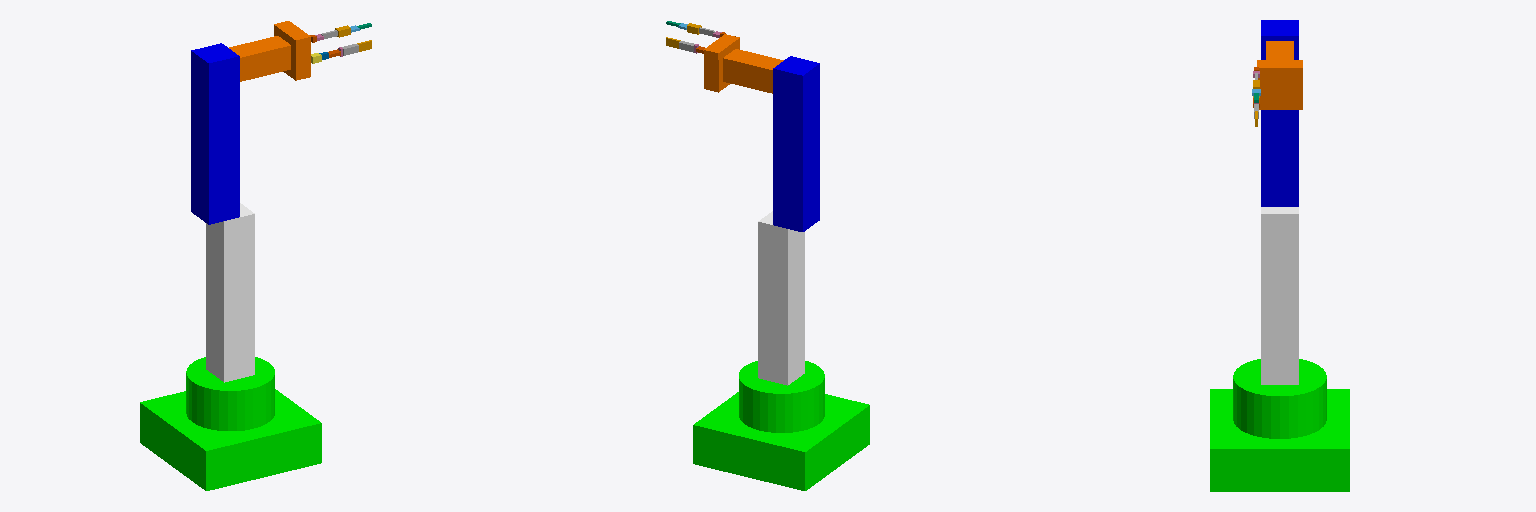
The robot description file, URDF, robot "robot":
<?xml version='1.0' encoding='utf-8'?>
<robot name="robot">
  <link name="base_link">
    <visual>
      <origin xyz="0 0 0.125" rpy="0 0 0" />
      <geometry>
        <box size="0.75 0.75 0.25" />
      </geometry>
      <material name="green" />
    </visual>
    <visual>
      <origin xyz="0 0 0.375" rpy="0 0 0" />
      <geometry>
        <cylinder length="0.25" radius="0.25" />
      </geometry>
      <material name="green">
        <color rgba="0 1 0 1" />
      </material>
    </visual>
    <collision>
      <geometry>
        <box size="0.75 0.75 0.5" />
      </geometry>
    </collision>
    <inertial>
      <mass value="0.5" />
      <inertia ixx="0.034" ixy="0.0" ixz="0.0" iyy="0.034" iyz="0.0" izz="0.034" />
    </inertial>
  </link>
  <link name="support_link">
    <visual>
      <origin xyz="0 0 0.5" rpy="0 0 0" />
      <geometry>
        <box size="0.2 0.2 1" />
      </geometry>
      <material name="white">
        <color rgba="1 1 1 1" />
      </material>
    </visual>
    <collision>
      <geometry>
        <box size="0.2 0.2 1" />
      </geometry>
    </collision>
    <inertial>
      <mass value="0.1" />
      <inertia ixx="0.01" ixy="0.0" ixz="0.0" iyy="0.01" iyz="0.0" izz="0.01" />
    </inertial>
  </link>
  <joint name="support_joint" type="continuous">
    <origin xyz="0 0 0.5" rpy="0 0 0" />
    <parent link="base_link" />
    <child link="support_link" />
    <axis xyz="0 0 1" />
  </joint>
  <link name="arm_link">
    <visual>
      <origin xyz="0 0 0.5" rpy="0 0 0" />
      <geometry>
        <box size="0.2 0.2 1" />
      </geometry>
      <material name="blue">
        <color rgba="0 0 1 1" />
      </material>
    </visual>
    <collision>
      <geometry>
        <box size="0.2 0.2 1" />
      </geometry>
    </collision>
    <inertial>
      <mass value="0.1" />
      <inertia ixx="0.01" ixy="0.0" ixz="0.0" iyy="0.01" iyz="0.0" izz="0.01" />
    </inertial>
  </link>
  <joint name="arm_joint" type="revolute">
    <origin xyz="-0.1 0 1" rpy="0 0 0" />
    <parent link="support_link" />
    <child link="arm_link" />
    <axis xyz="0 1 0" />
    <limit lower="-3.14" upper="3.14" effort="1.0" velocity="1.0" />
  </joint>
  <link name="wrist_link">
    <visual>
      <origin xyz="0 0 0.25" rpy="0 0 0" />
      <geometry>
        <box size="0.15 0.15 0.5" />
      </geometry>
      <material name="orange">
        <color rgba="1 0.5 0 1" />
      </material>
    </visual>
    <collision>
      <geometry>
        <box size="0.15 0.15 0.5" />
      </geometry>
    </collision>
    <inertial>
      <mass value="0.1" />
      <inertia ixx="0.01" ixy="0.0" ixz="0.0" iyy="0.01" iyz="0.0" izz="0.01" />
    </inertial>
  </link>
  <joint name="wrist_joint" type="fixed">
    <origin xyz="0 0 0.9" rpy="0 1.571 0" />
    <parent link="arm_link" />
    <child link="wrist_link" />
  </joint>
  <link name="palm_link">
    <visual>
      <origin xyz="0 0 0.05" rpy="0 0 0" />
      <geometry>
        <box size="0.25 0.25 0.1" />
      </geometry>
      <material name="orange" />
    </visual>
    <collision>
      <geometry>
        <box size="0.25 0.25 0.1" />
      </geometry>
    </collision>
    <inertial>
      <mass value="0.1" />
      <inertia ixx="0.01" ixy="0.0" ixz="0.0" iyy="0.01" iyz="0.0" izz="0.01" />
    </inertial>
  </link>
  <joint name="palm_joint" type="fixed">
    <origin xyz="0 0 0.45" rpy="0 0 0" />
    <parent link="wrist_link" />
    <child link="palm_link" />
  </joint>
  <link name="finger_link_0_0">
    <visual>
      <origin xyz="0 0 0.013" rpy="0 0 0" />
      <geometry>
        <box size="0.036 0.029 0.026" />
      </geometry>
    </visual>
    <collision>
      <geometry>
        <box size="0.036 0.029 0.026" />
      </geometry>
    </collision>
    <inertial>
      <mass value="0.008" />
      <inertia ixx="0.0" iyy="0.0" izz="0.0" ixy="0" ixz="0" iyz="0" />
    </inertial>
  </link>
  <joint name="finger_joint_palm_link_to_finger_link_0_0" type="revolute">
    <origin xyz="-0.109 -0.125 0.1" rpy="0 0 0" />
    <parent link="palm_link" />
    <child link="finger_link_0_0" />
    <axis xyz="1.0 1.0 0.0" />
    <limit lower="-3.142" upper="3.142" effort="10" velocity="10" />
  </joint>
  <link name="finger_link_0_1">
    <visual>
      <origin xyz="0 0 0.0215" rpy="0 0 0" />
      <geometry>
        <box size="0.019 0.039 0.043" />
      </geometry>
    </visual>
    <collision>
      <geometry>
        <box size="0.019 0.039 0.043" />
      </geometry>
    </collision>
    <inertial>
      <mass value="0.01" />
      <inertia ixx="0.0" iyy="0.0" izz="0.0" ixy="0" ixz="0" iyz="0" />
    </inertial>
  </link>
  <joint name="finger_joint_finger_link_0_0_to_finger_link_0_1" type="revolute">
    <origin xyz="0.0 0.0 0.026" rpy="0 0 0" />
    <parent link="finger_link_0_0" />
    <child link="finger_link_0_1" />
    <axis xyz="0.0 1.0 0.0" />
    <limit lower="-3.142" upper="3.142" effort="10" velocity="10" />
  </joint>
  <link name="finger_link_0_2">
    <visual>
      <origin xyz="0 0 0.0495" rpy="0 0 0" />
      <geometry>
        <box size="0.033 0.015 0.099" />
      </geometry>
    </visual>
    <collision>
      <geometry>
        <box size="0.033 0.015 0.099" />
      </geometry>
    </collision>
    <inertial>
      <mass value="0.015" />
      <inertia ixx="0.0" iyy="0.0" izz="0.0" ixy="0" ixz="0" iyz="0" />
    </inertial>
  </link>
  <joint name="finger_joint_finger_link_0_1_to_finger_link_0_2" type="revolute">
    <origin xyz="0.0 0.0 0.043" rpy="0 0 0" />
    <parent link="finger_link_0_1" />
    <child link="finger_link_0_2" />
    <axis xyz="1.0 0.0 0.0" />
    <limit lower="-3.142" upper="3.142" effort="10" velocity="10" />
  </joint>
  <link name="finger_link_0_3">
    <visual>
      <origin xyz="0 0 0.039" rpy="0 0 0" />
      <geometry>
        <box size="0.042 0.04 0.078" />
      </geometry>
    </visual>
    <collision>
      <geometry>
        <box size="0.042 0.04 0.078" />
      </geometry>
    </collision>
    <inertial>
      <mass value="0.039" />
      <inertia ixx="0.0" iyy="0.0" izz="0.0" ixy="0" ixz="0" iyz="0" />
    </inertial>
  </link>
  <joint name="finger_joint_finger_link_0_2_to_finger_link_0_3" type="revolute">
    <origin xyz="0.0 0.0 0.099" rpy="0 0 0" />
    <parent link="finger_link_0_2" />
    <child link="finger_link_0_3" />
    <axis xyz="1.0 1.0 0.0" />
    <limit lower="-3.142" upper="3.142" effort="10" velocity="10" />
  </joint>
  <link name="finger_link_0_4">
    <visual>
      <origin xyz="0 0 0.027" rpy="0 0 0" />
      <geometry>
        <box size="0.014 0.045 0.054" />
      </geometry>
    </visual>
    <collision>
      <geometry>
        <box size="0.014 0.045 0.054" />
      </geometry>
    </collision>
    <inertial>
      <mass value="0.01" />
      <inertia ixx="0.0" iyy="0.0" izz="0.0" ixy="0" ixz="0" iyz="0" />
    </inertial>
  </link>
  <joint name="finger_joint_finger_link_0_3_to_finger_link_0_4" type="revolute">
    <origin xyz="0.0 0.0 0.078" rpy="0 0 0" />
    <parent link="finger_link_0_3" />
    <child link="finger_link_0_4" />
    <axis xyz="0.0 1.0 0.0" />
    <limit lower="-3.142" upper="3.142" effort="10" velocity="10" />
  </joint>
  <link name="finger_link_0_5">
    <visual>
      <origin xyz="0 0 0.0435" rpy="0 0 0" />
      <geometry>
        <box size="0.015 0.022 0.087" />
      </geometry>
    </visual>
    <collision>
      <geometry>
        <box size="0.015 0.022 0.087" />
      </geometry>
    </collision>
    <inertial>
      <mass value="0.009" />
      <inertia ixx="0.0" iyy="0.0" izz="0.0" ixy="0" ixz="0" iyz="0" />
    </inertial>
  </link>
  <joint name="finger_joint_finger_link_0_4_to_finger_link_0_5" type="revolute">
    <origin xyz="0.0 0.0 0.054" rpy="0 0 0" />
    <parent link="finger_link_0_4" />
    <child link="finger_link_0_5" />
    <axis xyz="0.0 1.0 0.0" />
    <limit lower="-3.142" upper="3.142" effort="10" velocity="10" />
  </joint>
  <link name="finger_link_1_0">
    <visual>
      <origin xyz="0 0 0.0275" rpy="0 0 0" />
      <geometry>
        <box size="0.042 0.04 0.055" />
      </geometry>
    </visual>
    <collision>
      <geometry>
        <box size="0.042 0.04 0.055" />
      </geometry>
    </collision>
    <inertial>
      <mass value="0.028" />
      <inertia ixx="0.0" iyy="0.0" izz="0.0" ixy="0" ixz="0" iyz="0" />
    </inertial>
  </link>
  <joint name="finger_joint_palm_link_to_finger_link_1_0" type="revolute">
    <origin xyz="0.014 -0.125 0.1" rpy="0 0 0" />
    <parent link="palm_link" />
    <child link="finger_link_1_0" />
    <axis xyz="0.0 1.0 0.0" />
    <limit lower="-3.142" upper="3.142" effort="10" velocity="10" />
  </joint>
  <link name="finger_link_1_1">
    <visual>
      <origin xyz="0 0 0.0255" rpy="0 0 0" />
      <geometry>
        <box size="0.036 0.023 0.051" />
      </geometry>
    </visual>
    <collision>
      <geometry>
        <box size="0.036 0.023 0.051" />
      </geometry>
    </collision>
    <inertial>
      <mass value="0.013" />
      <inertia ixx="0.0" iyy="0.0" izz="0.0" ixy="0" ixz="0" iyz="0" />
    </inertial>
  </link>
  <joint name="finger_joint_finger_link_1_0_to_finger_link_1_1" type="revolute">
    <origin xyz="0.0 0.0 0.055" rpy="0 0 0" />
    <parent link="finger_link_1_0" />
    <child link="finger_link_1_1" />
    <axis xyz="1.0 1.0 0.0" />
    <limit lower="-3.142" upper="3.142" effort="10" velocity="10" />
  </joint>
  <link name="finger_link_1_2">
    <visual>
      <origin xyz="0 0 0.0385" rpy="0 0 0" />
      <geometry>
        <box size="0.021 0.04 0.077" />
      </geometry>
    </visual>
    <collision>
      <geometry>
        <box size="0.021 0.04 0.077" />
      </geometry>
    </collision>
    <inertial>
      <mass value="0.019" />
      <inertia ixx="0.0" iyy="0.0" izz="0.0" ixy="0" ixz="0" iyz="0" />
    </inertial>
  </link>
  <joint name="finger_joint_finger_link_1_1_to_finger_link_1_2" type="revolute">
    <origin xyz="0.0 0.0 0.051" rpy="0 0 0" />
    <parent link="finger_link_1_1" />
    <child link="finger_link_1_2" />
    <axis xyz="0.0 1.0 0.0" />
    <limit lower="-3.142" upper="3.142" effort="10" velocity="10" />
  </joint>
  <link name="finger_link_1_3">
    <visual>
      <origin xyz="0 0 0.009" rpy="0 0 0" />
      <geometry>
        <box size="0.049 0.024 0.018" />
      </geometry>
    </visual>
    <collision>
      <geometry>
        <box size="0.049 0.024 0.018" />
      </geometry>
    </collision>
    <inertial>
      <mass value="0.006" />
      <inertia ixx="0.0" iyy="0.0" izz="0.0" ixy="0" ixz="0" iyz="0" />
    </inertial>
  </link>
  <joint name="finger_joint_finger_link_1_2_to_finger_link_1_3" type="revolute">
    <origin xyz="0.0 0.0 0.077" rpy="0 0 0" />
    <parent link="finger_link_1_2" />
    <child link="finger_link_1_3" />
    <axis xyz="0.0 1.0 0.0" />
    <limit lower="-3.142" upper="3.142" effort="10" velocity="10" />
  </joint>
  <link name="finger_link_1_4">
    <visual>
      <origin xyz="0 0 0.05" rpy="0 0 0" />
      <geometry>
        <box size="0.042 0.03 0.1" />
      </geometry>
    </visual>
    <collision>
      <geometry>
        <box size="0.042 0.03 0.1" />
      </geometry>
    </collision>
    <inertial>
      <mass value="0.038" />
      <inertia ixx="0.0" iyy="0.0" izz="0.0" ixy="0" ixz="0" iyz="0" />
    </inertial>
  </link>
  <joint name="finger_joint_finger_link_1_3_to_finger_link_1_4" type="revolute">
    <origin xyz="0.0 0.0 0.018" rpy="0 0 0" />
    <parent link="finger_link_1_3" />
    <child link="finger_link_1_4" />
    <axis xyz="0.0 1.0 0.0" />
    <limit lower="-3.142" upper="3.142" effort="10" velocity="10" />
  </joint>
  <link name="finger_link_1_5">
    <visual>
      <origin xyz="0 0 0.046" rpy="0 0 0" />
      <geometry>
        <box size="0.049 0.014 0.092" />
      </geometry>
    </visual>
    <collision>
      <geometry>
        <box size="0.049 0.014 0.092" />
      </geometry>
    </collision>
    <inertial>
      <mass value="0.019" />
      <inertia ixx="0.0" iyy="0.0" izz="0.0" ixy="0" ixz="0" iyz="0" />
    </inertial>
  </link>
  <joint name="finger_joint_finger_link_1_4_to_finger_link_1_5" type="revolute">
    <origin xyz="0.0 0.0 0.1" rpy="0 0 0" />
    <parent link="finger_link_1_4" />
    <child link="finger_link_1_5" />
    <axis xyz="0.0 1.0 0.0" />
    <limit lower="-3.142" upper="3.142" effort="10" velocity="10" />
  </joint>
</robot>

--- What the picture shows (computed from the rendered views, not written in the file) ---
The picture shows the robot from 3 angles, left to right: view 1: azimuth 30°, elevation 25°; view 2: azimuth 150°, elevation 25°; view 3: azimuth 270°, elevation 25°; orthographic projection.
Model robot with 17 links and 16 joints (13 revolute, 1 continuous, 2 fixed), rooted at base_link, posed every joint at zero.
Visible links, largest first — view 1: base_link, arm_link, support_link, wrist_link, palm_link; view 2: base_link, arm_link, support_link, wrist_link, palm_link; view 3: base_link, support_link, arm_link, palm_link, wrist_link.
Link boxes in pixels (x1,y1,x2,y2): base_link: (140, 357, 321, 490); arm_link: (191, 43, 239, 224); support_link: (206, 203, 254, 382); wrist_link: (229, 36, 290, 81); palm_link: (274, 21, 310, 80); base_link: (693, 361, 869, 490); arm_link: (773, 56, 819, 231); support_link: (758, 211, 804, 385); wrist_link: (723, 49, 783, 93); palm_link: (704, 34, 739, 92); base_link: (1210, 359, 1349, 491); support_link: (1261, 207, 1298, 384); arm_link: (1261, 20, 1298, 206); palm_link: (1257, 60, 1302, 109); wrist_link: (1266, 41, 1293, 59).
Size in the robot's own frame: 1.22 by 0.75 by 2.53 metres.
Geometry: primitives only (box / cylinder / sphere), no mesh files.
